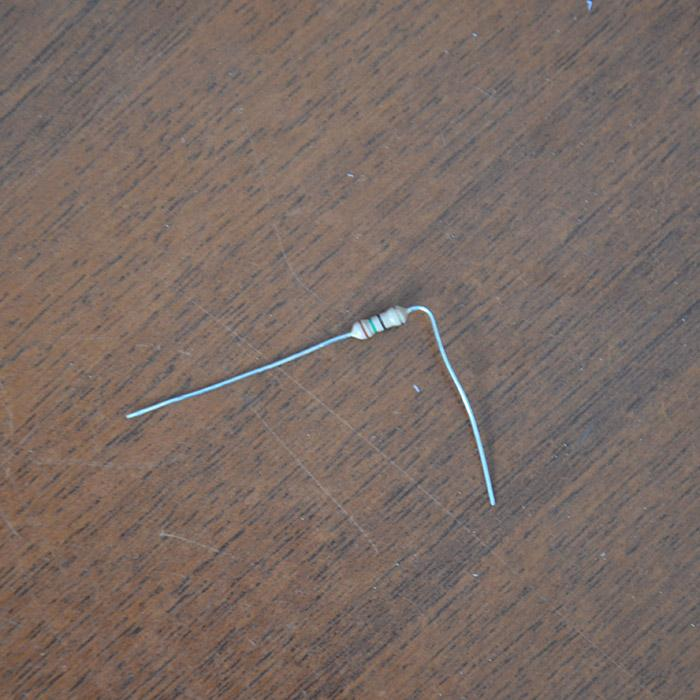resistor: (350, 305, 409, 340)
